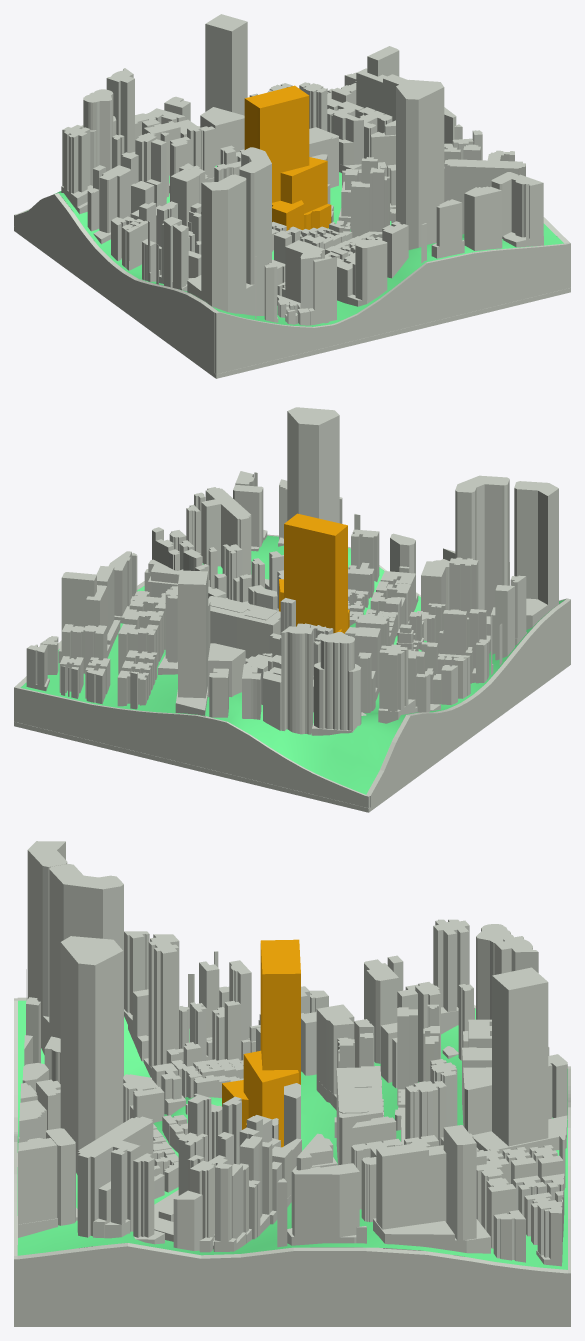
The model's file is fbxmodel.fbx.
3 views of the same model, one above another, from view 1: azimuth 30°, elevation 25°; view 2: azimuth 150°, elevation 25°; view 3: azimuth 270°, elevation 25° (orthographic). The views are drawn at different scales.
Visible parts, largest first — view 1: Model, Group519, Group304, Group395, Group43, Group215, Group679, Group357, Group154, Group224, Group25, Group548 (+43 smaller); view 2: Model, Group679, Group395, Group519, Group215, Group304, Group43, Group637, Group357, Group172, Group82, Group173 (+44 smaller); view 3: Model, Group519, Group679, Group43, Group215, Group395, Group45, Group357, Group196, Group304, Group249, Group113 (+64 smaller).
Part boxes in pixels (x1,y1,x2,y2): Model: (14,193,570,378); Group519: (396,79,444,249); Group304: (201,174,246,314); Group395: (244,85,309,202); Group43: (205,14,247,115); Group215: (239,147,271,315); Group679: (25,165,563,326); Group357: (444,154,525,234); Group154: (464,186,502,250); Group224: (280,157,327,213); Group25: (285,240,324,308); Group548: (62,125,90,203); Model: (14,534,570,812); Group679: (20,535,564,794); Group395: (284,513,347,633); Group519: (287,407,339,523); Group215: (455,475,509,616); Group304: (514,481,558,612); Group43: (178,570,208,698); Group637: (281,623,313,734); Group357: (201,487,251,575); Group172: (314,662,361,730); Group82: (208,596,280,658); Group173: (320,632,354,729); Model: (14,997,570,1326); Group519: (60,936,123,1174); Group679: (17,1000,567,1269); Group43: (492,967,548,1146); Group215: (49,864,123,1076); Group395: (260,939,300,1084); Group45: (292,1163,359,1247); Group357: (77,1116,153,1248); Group196: (376,1142,428,1229); Group304: (27,841,67,1050); Group249: (148,936,178,1067); Group113: (443,1125,476,1252).
Bounding box in the file's own units: 32.6 × 18.69 × 32.11.
